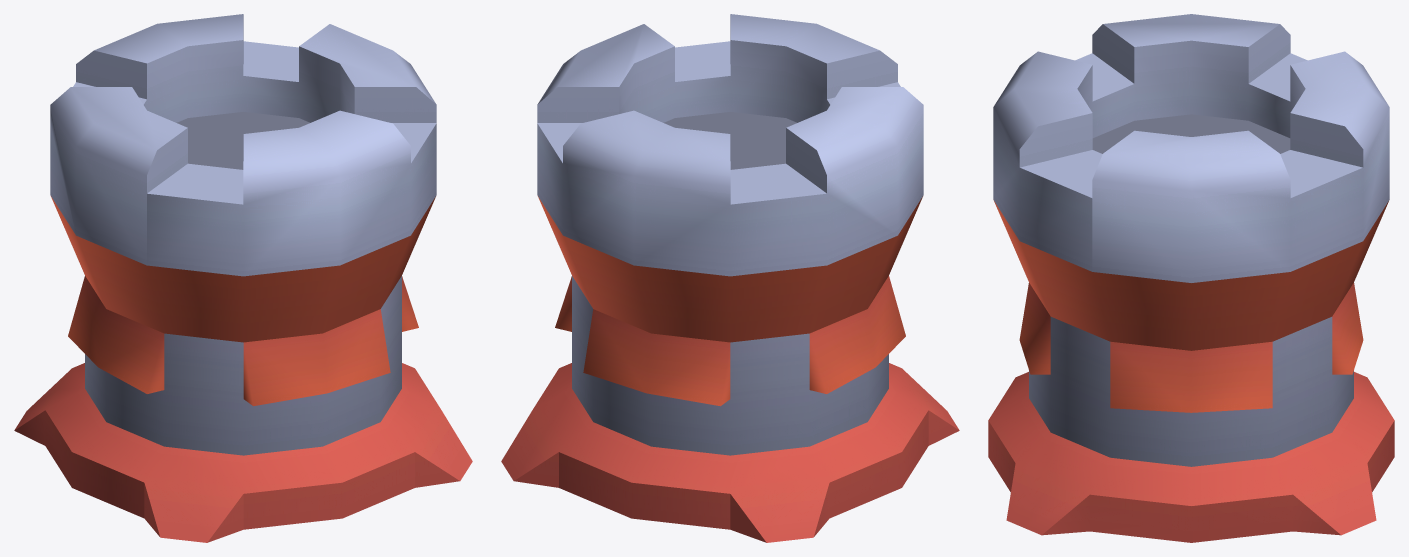
File: tower-round-build-b.glb
3 views of the same model, side by side, from view 1: azimuth 30°, elevation 25°; view 2: azimuth 150°, elevation 25°; view 3: azimuth 270°, elevation 25° (orthographic). The views are drawn at different scales.
Parts seen in each view (by area): view 1: tower-round-build-b; view 2: tower-round-build-b; view 3: tower-round-build-b.
Boxes of the visible parts, x1,y1,x2,y2 form: tower-round-build-b: (14,14,472,542); tower-round-build-b: (501,14,959,542); tower-round-build-b: (988,14,1394,542).
Size of the model in its own units: 1 by 1 by 1.
Materials: 1 (1 with a texture image).
